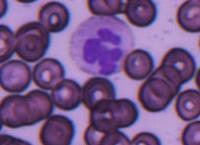N: (70, 16, 134, 77)
